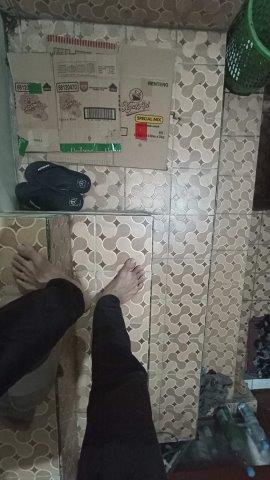kardus: (9, 37, 174, 168)
